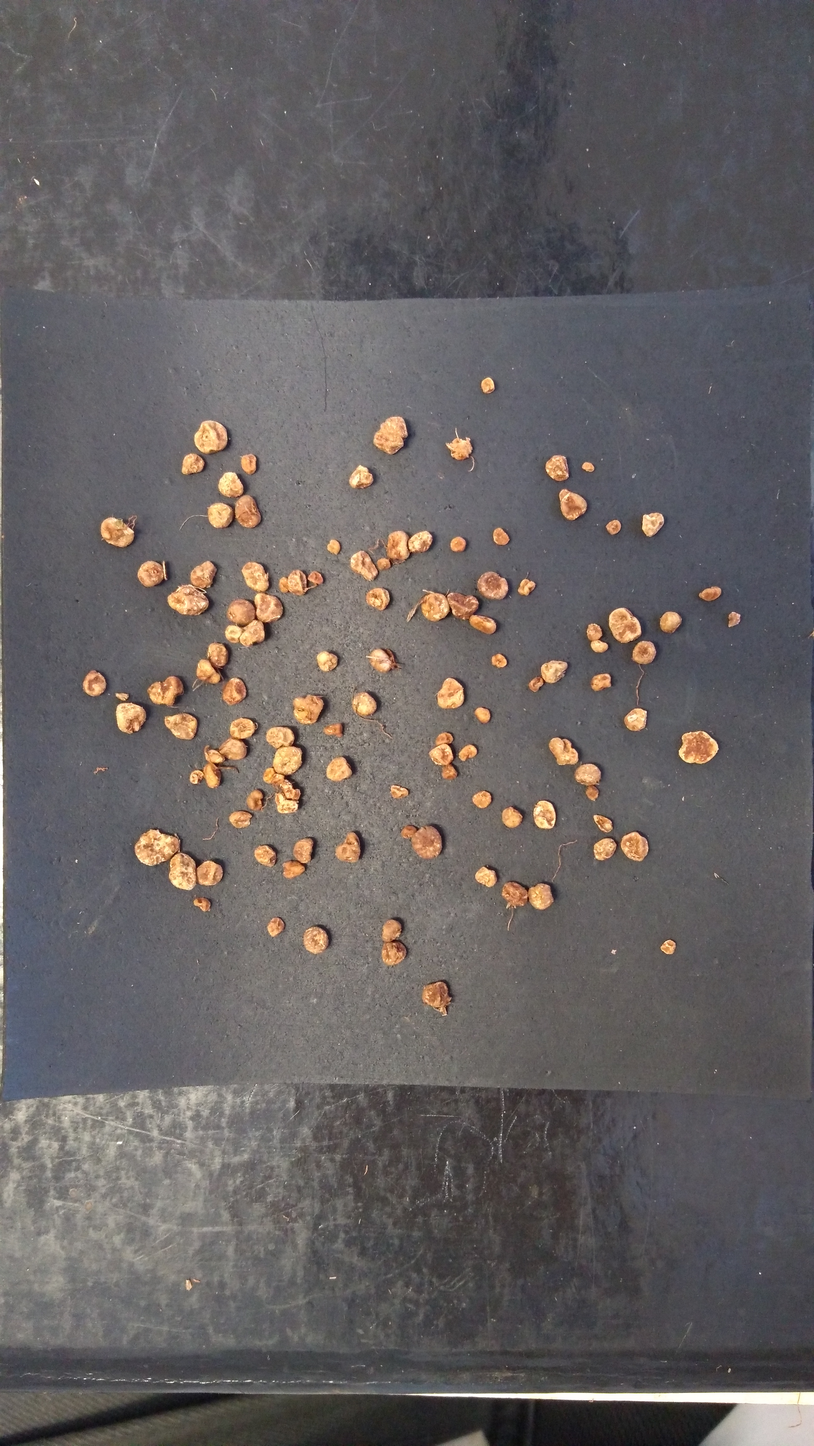nodule: (132, 826, 184, 869), (673, 728, 720, 770), (369, 411, 408, 459), (606, 601, 644, 646), (435, 672, 470, 720), (618, 825, 657, 868), (145, 673, 189, 710), (443, 585, 481, 625), (269, 744, 309, 780), (408, 824, 448, 860), (524, 873, 558, 914), (167, 851, 198, 895), (299, 924, 337, 959), (110, 701, 149, 735), (557, 487, 590, 527), (290, 691, 326, 727), (346, 547, 380, 585), (544, 735, 582, 769), (475, 568, 511, 603), (253, 589, 285, 627), (223, 596, 262, 627), (162, 711, 201, 742), (330, 830, 365, 864), (240, 559, 273, 595), (362, 586, 400, 617), (419, 980, 455, 1012), (418, 591, 453, 623), (367, 646, 403, 677), (541, 451, 573, 484), (238, 618, 270, 651), (263, 724, 302, 751), (444, 432, 476, 464), (531, 796, 558, 833), (350, 688, 381, 720), (638, 508, 668, 541), (385, 529, 414, 563), (346, 462, 377, 493), (79, 667, 109, 699), (630, 637, 659, 670), (324, 754, 355, 784), (499, 878, 530, 908), (621, 706, 653, 735), (378, 940, 412, 967), (220, 676, 249, 707), (194, 859, 225, 888), (589, 834, 620, 863), (406, 525, 435, 555), (657, 610, 689, 637), (571, 761, 603, 788), (468, 611, 501, 637), (291, 835, 317, 868), (217, 735, 250, 761), (192, 658, 222, 686), (425, 741, 457, 767), (228, 715, 261, 740), (472, 862, 500, 890), (204, 639, 231, 668), (378, 916, 405, 945), (312, 648, 343, 673), (251, 843, 278, 871), (585, 809, 615, 834), (202, 760, 225, 792), (226, 807, 254, 832), (498, 804, 524, 830), (284, 569, 308, 597), (322, 718, 350, 742), (243, 788, 267, 814), (474, 372, 498, 397), (265, 914, 287, 941), (588, 671, 613, 694), (280, 860, 308, 880), (588, 637, 612, 660), (657, 936, 682, 958), (469, 789, 492, 812), (491, 525, 513, 548), (516, 576, 538, 599), (456, 742, 479, 764), (438, 761, 460, 784), (585, 618, 605, 643), (202, 747, 228, 765), (221, 624, 244, 644), (386, 782, 409, 801), (604, 516, 624, 537), (397, 821, 418, 841), (306, 568, 326, 588), (584, 783, 604, 803), (449, 533, 467, 555), (191, 896, 213, 914), (580, 459, 600, 478), (434, 729, 454, 747), (375, 556, 394, 573), (276, 575, 292, 595), (185, 770, 205, 785), (326, 537, 341, 556)
